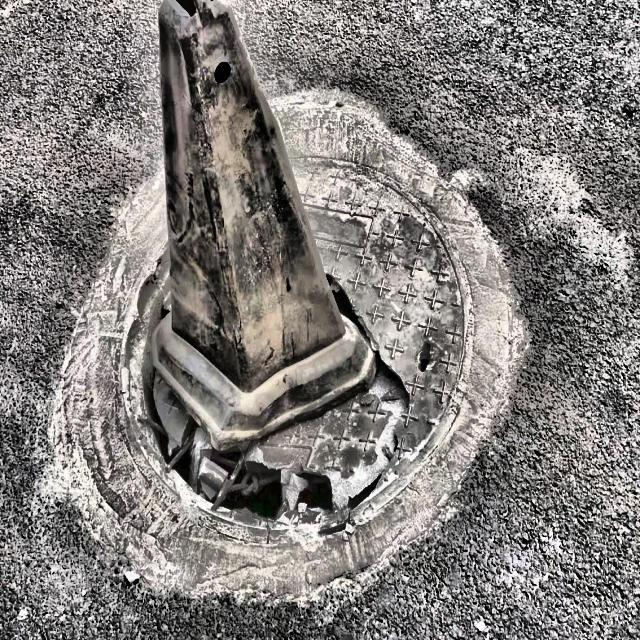Open Manhole: (146, 206, 463, 531)
